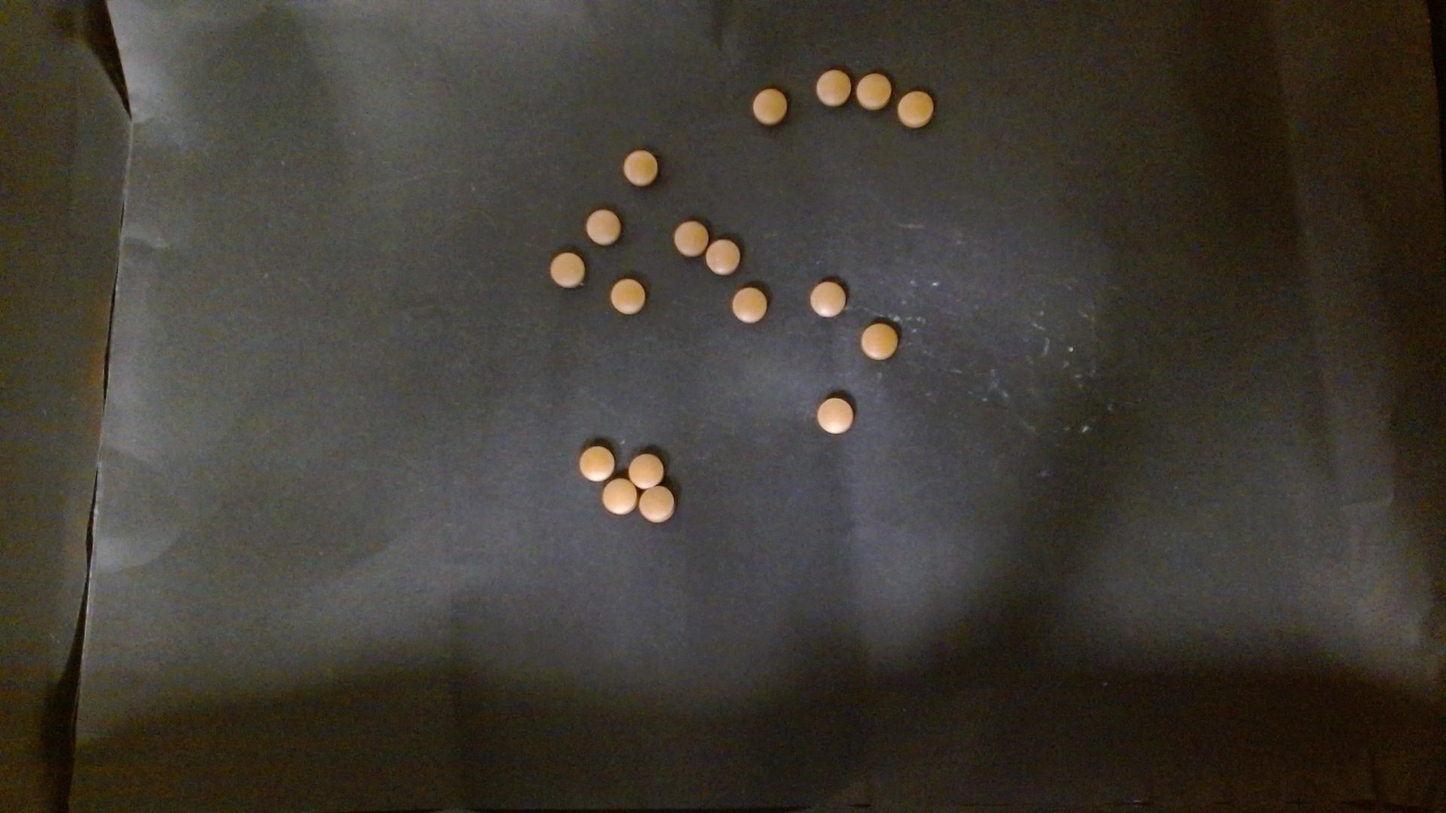Circle: (895, 89, 934, 128), (860, 321, 898, 360), (578, 443, 615, 482), (601, 477, 638, 516), (549, 250, 586, 288), (584, 207, 621, 245), (731, 285, 768, 323), (814, 68, 851, 105), (810, 279, 847, 316), (752, 87, 789, 124), (816, 397, 853, 434), (673, 219, 709, 257), (621, 148, 657, 186), (628, 452, 664, 490), (706, 236, 741, 275), (639, 484, 674, 523), (856, 72, 892, 109), (610, 278, 646, 314)
